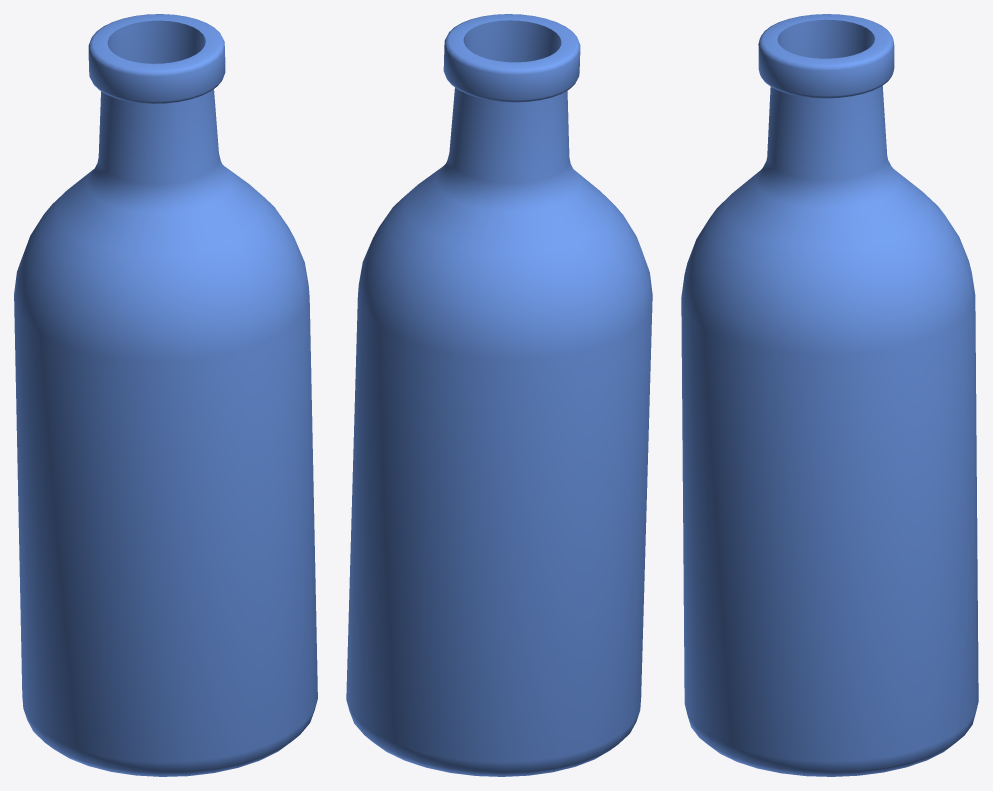
File: bottle.obj
3 renders of one model, left to right at view 1: azimuth 30°, elevation 25°; view 2: azimuth 150°, elevation 25°; view 3: azimuth 270°, elevation 25°, orthographic.
Parts seen in each view (by area): view 1: Bottle_Glass_0; view 2: Bottle_Glass_0; view 3: Bottle_Glass_0.
Part boxes in pixels (bbox=[...]): Bottle_Glass_0: bbox=[14, 14, 317, 776]; Bottle_Glass_0: bbox=[346, 14, 652, 776]; Bottle_Glass_0: bbox=[681, 14, 978, 776].
Size of the model in its own units: 0.3081 by 0.7615 by 0.3001.
Materials: 1 (1 with a texture image).
